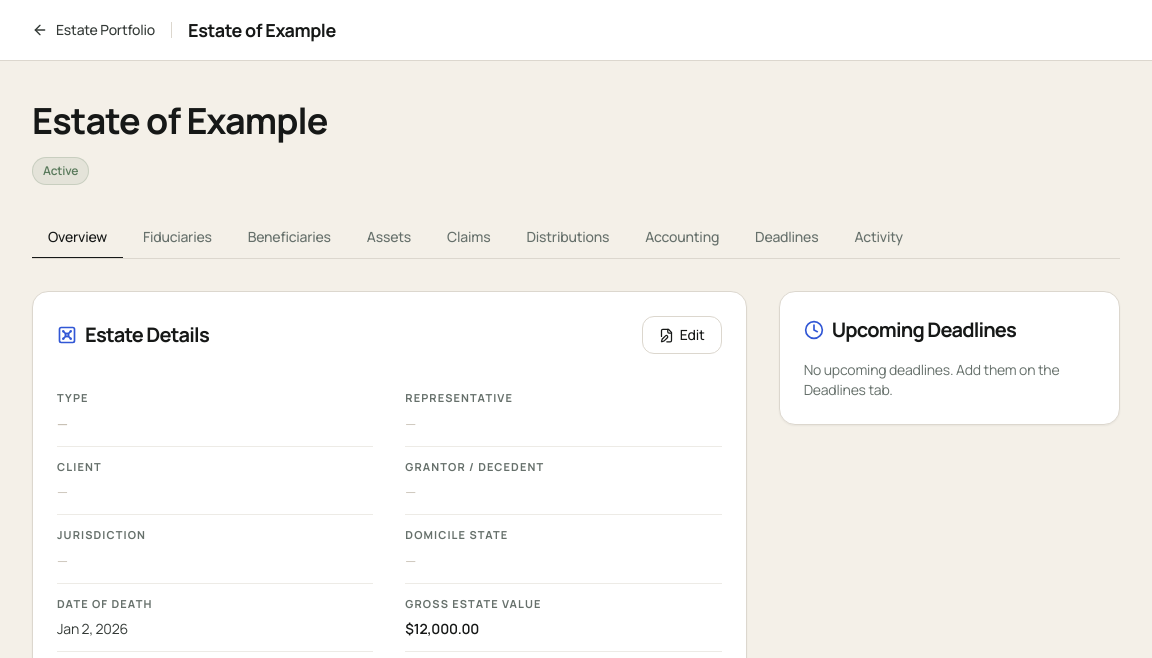
Test: saves corrected estate details with unknown dates and values while retaining known zero
Click the button "Edit" at coordinates (682, 335), box [642,316,722,354]
(page scrolled)
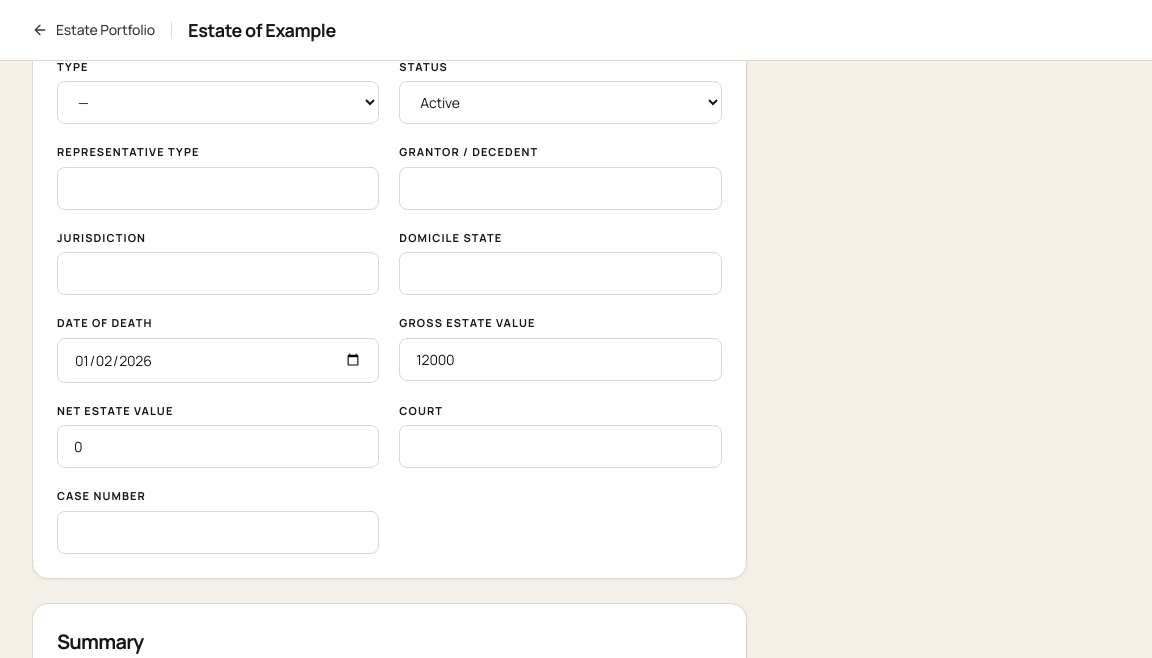
Clear the date field labelled "Date of Death" at coordinates (218, 360), box [57,338,379,382]
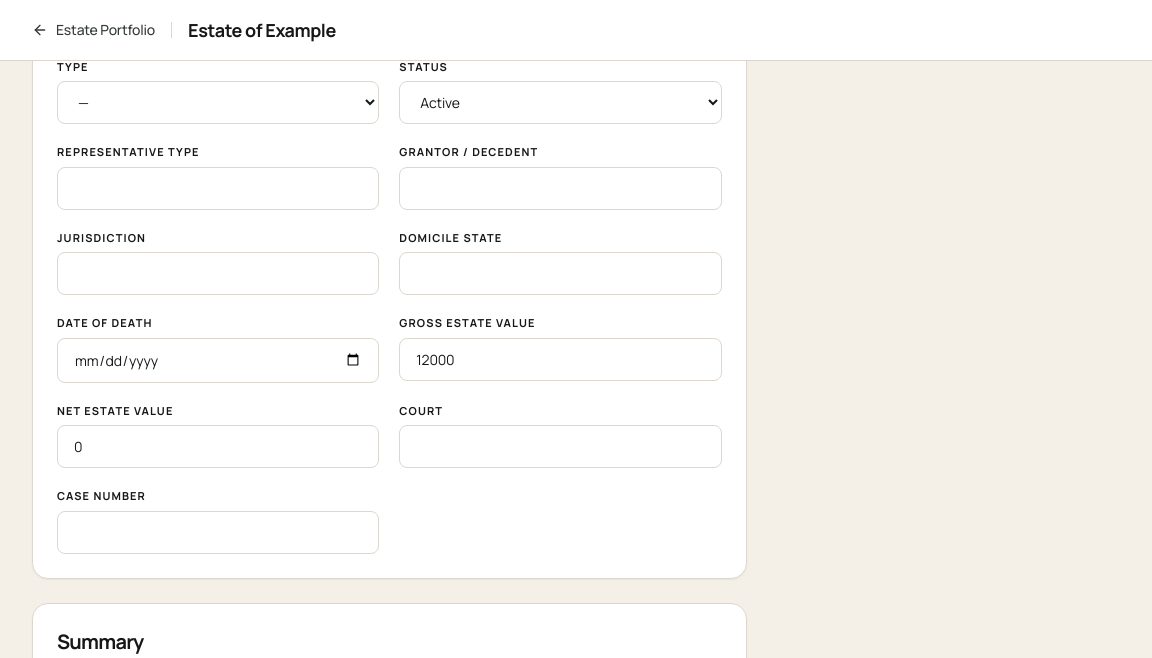
Clear the number field labelled "Gross Estate Value" at coordinates (560, 359), box [399,338,722,380]
(page scrolled)
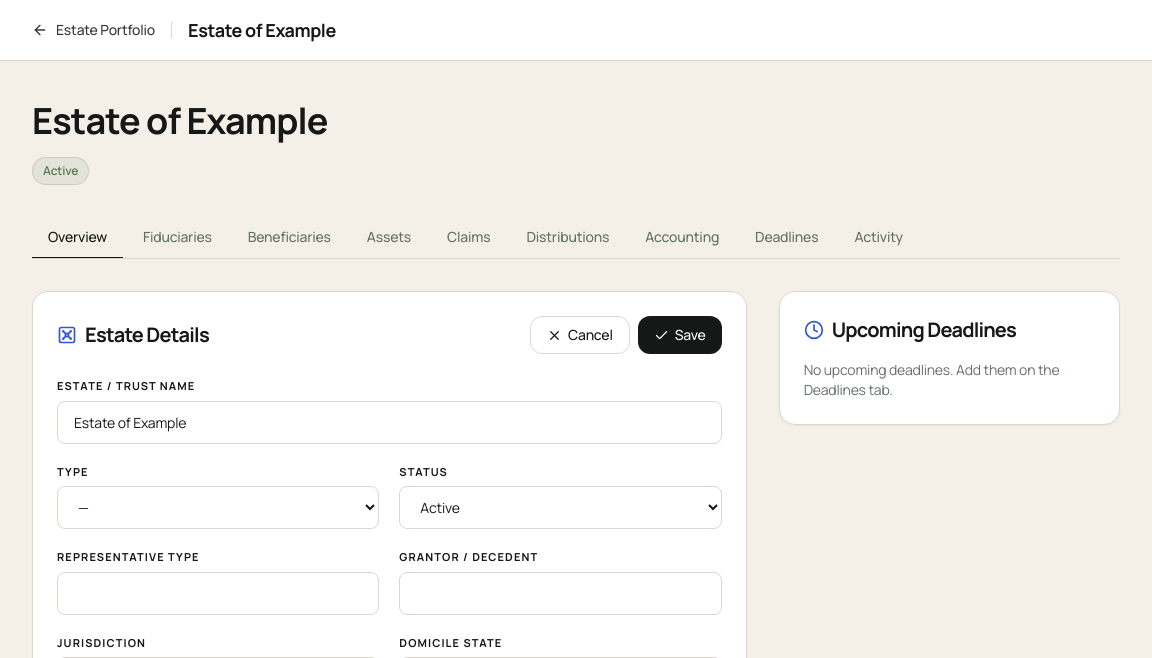
Click the button "Save" at coordinates (680, 335), box [638,316,722,354]
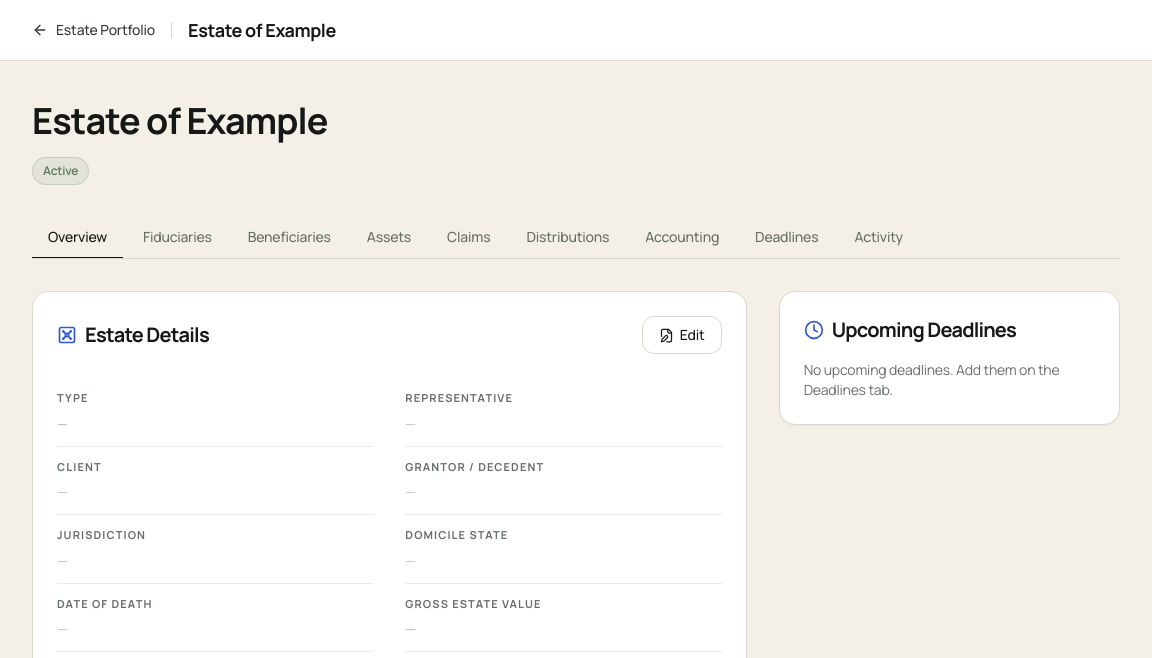
Expected: the button "Edit" is shown, [642,316,722,354]
